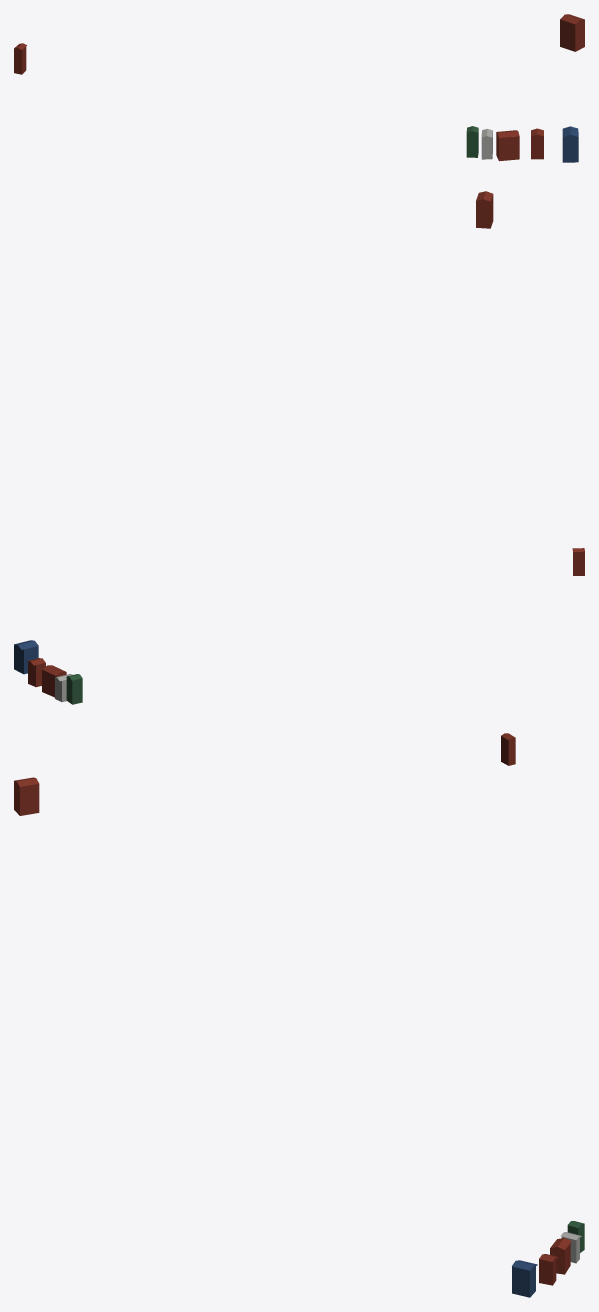
File: near-16-54722-29748.c06f3302.glb
The picture shows the model from 3 angles, top to bottom: view 1: azimuth 30°, elevation 25°; view 2: azimuth 150°, elevation 25°; view 3: azimuth 270°, elevation 25°; orthographic projection. The views are drawn at different scales.
Size of the model in its own units: 473 by 292 by 385.
